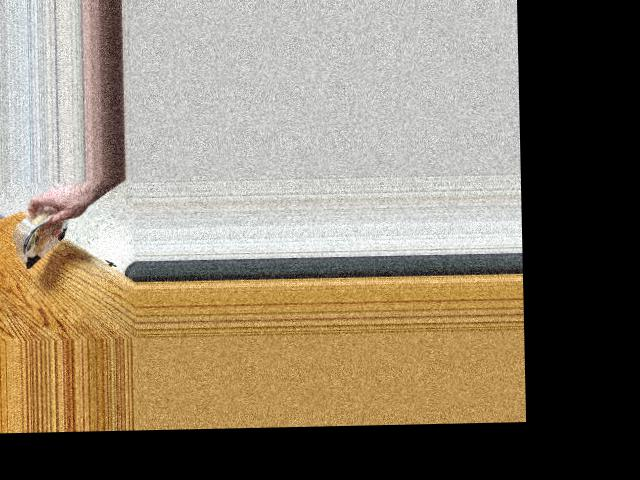cheese: (3, 208, 86, 268)
